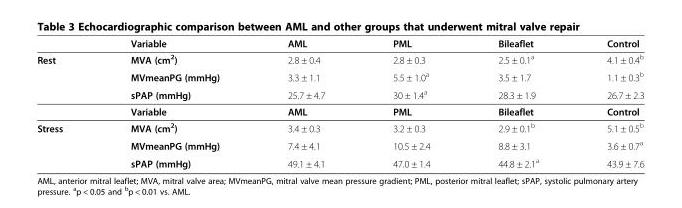table: (36, 37, 643, 168)
table column: (96, 37, 252, 168), (463, 37, 572, 168), (252, 37, 358, 168), (358, 37, 463, 168), (572, 37, 643, 168), (36, 37, 96, 168)
table column header: (36, 37, 643, 50)
table row: (36, 67, 643, 85), (36, 85, 643, 103), (36, 118, 643, 136), (36, 50, 643, 67), (36, 136, 643, 153), (36, 103, 643, 118), (36, 153, 643, 168), (36, 37, 643, 50)
table spanning cell: (36, 50, 96, 118), (36, 118, 96, 168)
